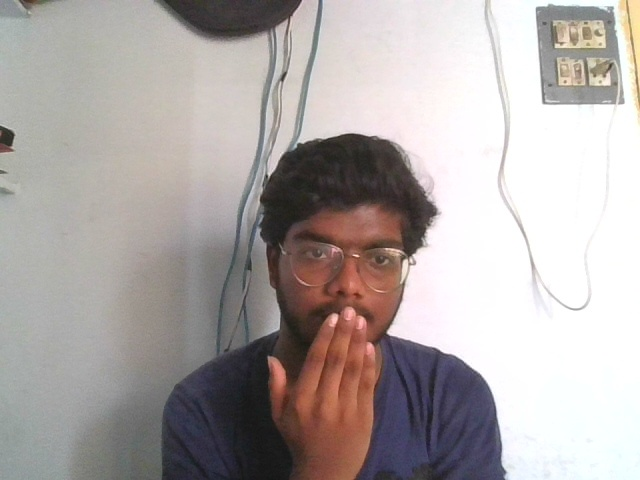Thanks: (264, 303, 378, 475)
